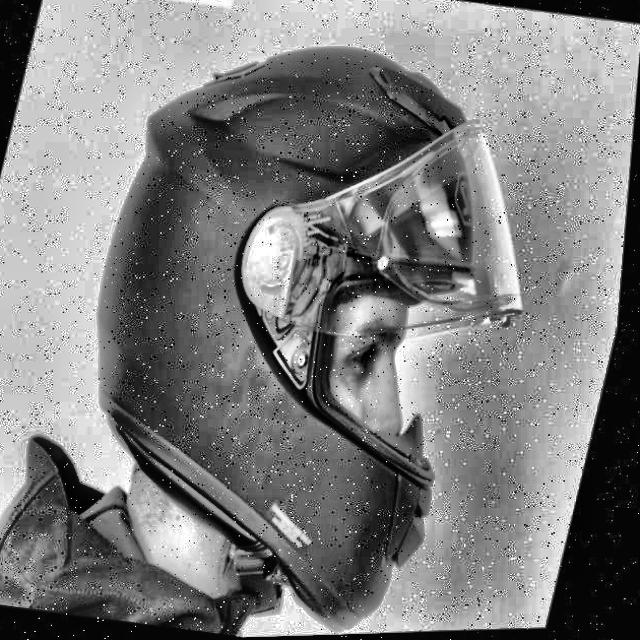Helmet: (21, 0, 596, 640)
